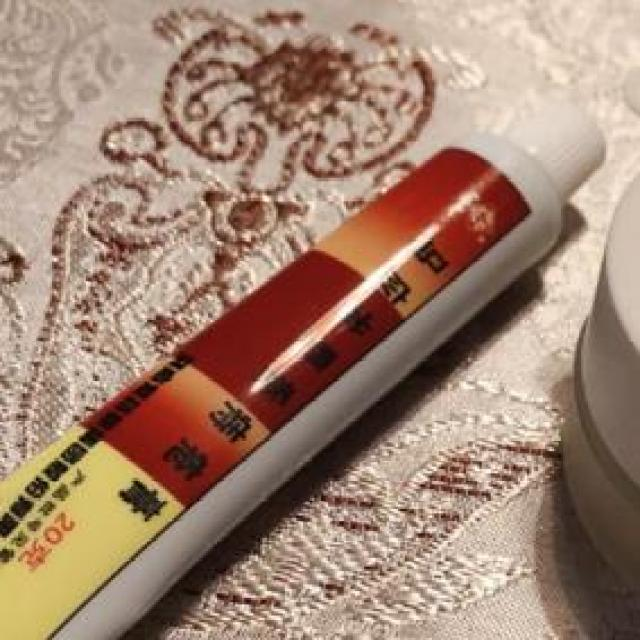-Hazardous waste - medicine inner packaging-: (1, 99, 606, 637)
